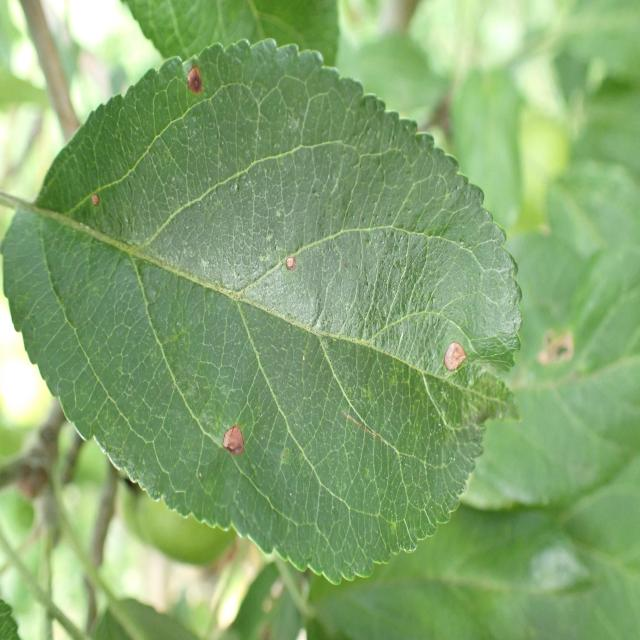Black Rot: (214, 390, 252, 486), (419, 328, 472, 388), (86, 173, 112, 231), (178, 52, 201, 110), (282, 252, 301, 294)
